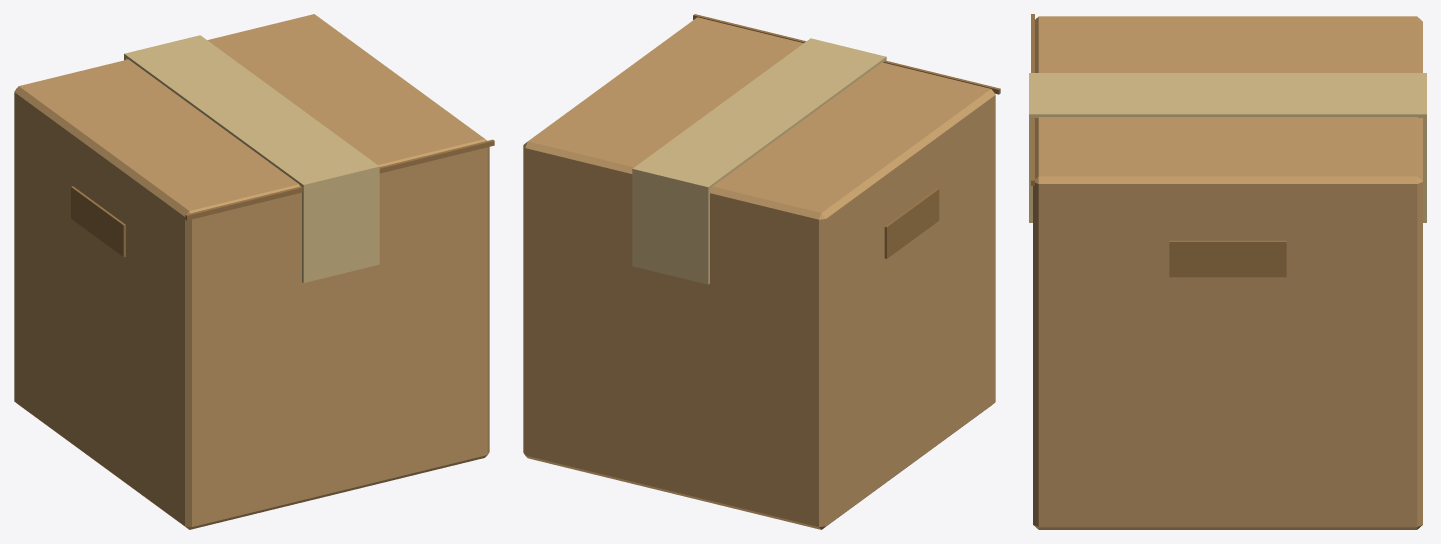
File: FUR_CardboardBox_Frac.fbx
3 renders of one model, left to right at view 1: azimuth 30°, elevation 25°; view 2: azimuth 150°, elevation 25°; view 3: azimuth 270°, elevation 25°, orthographic. The views are drawn at different scales.
Parts seen in each view (by area): view 1: FUR_CardboardBox_Frac_2, FUR_CardboardBox_Frac_1, FUR_CardboardBox_Frac_3, FUR_CardboardBox_Frac_4; view 2: FUR_CardboardBox_Frac_3, FUR_CardboardBox_Frac_2, FUR_CardboardBox_Frac_1, FUR_CardboardBox_Frac_4; view 3: FUR_CardboardBox_Frac_2, FUR_CardboardBox_Frac_3, FUR_CardboardBox_Frac_4.
Boxes of the visible parts, x1,y1,x2,y2 form: FUR_CardboardBox_Frac_2: [149, 14, 494, 479]; FUR_CardboardBox_Frac_1: [14, 232, 395, 529]; FUR_CardboardBox_Frac_3: [14, 47, 278, 345]; FUR_CardboardBox_Frac_4: [42, 164, 316, 344]; FUR_CardboardBox_Frac_3: [594, 76, 958, 477]; FUR_CardboardBox_Frac_2: [523, 14, 886, 473]; FUR_CardboardBox_Frac_1: [591, 222, 995, 529]; FUR_CardboardBox_Frac_4: [853, 60, 1000, 398]; FUR_CardboardBox_Frac_2: [1029, 73, 1426, 529]; FUR_CardboardBox_Frac_3: [1090, 16, 1426, 86]; FUR_CardboardBox_Frac_4: [1031, 14, 1114, 74].
Bounding box in the file's own units: 2.03 × 2.02 × 2.04.
